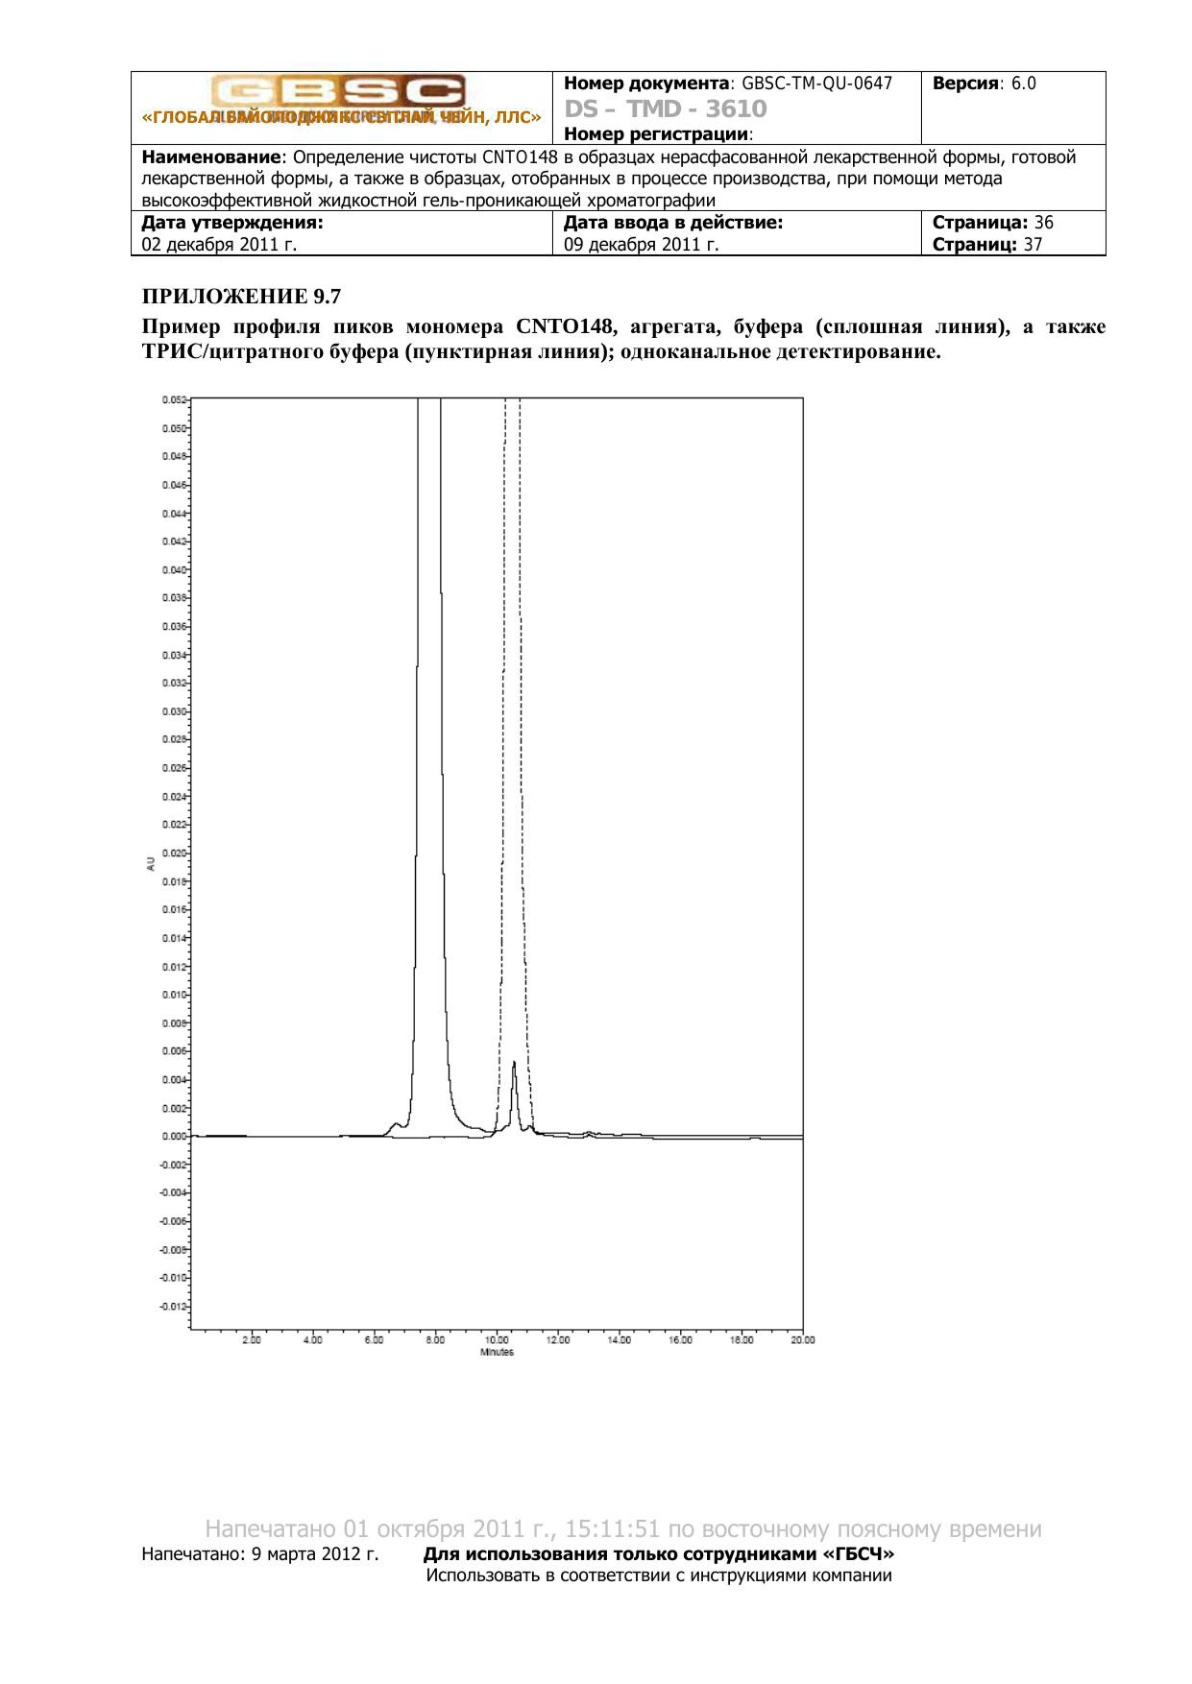merged_cells: (129, 70, 1107, 257)
